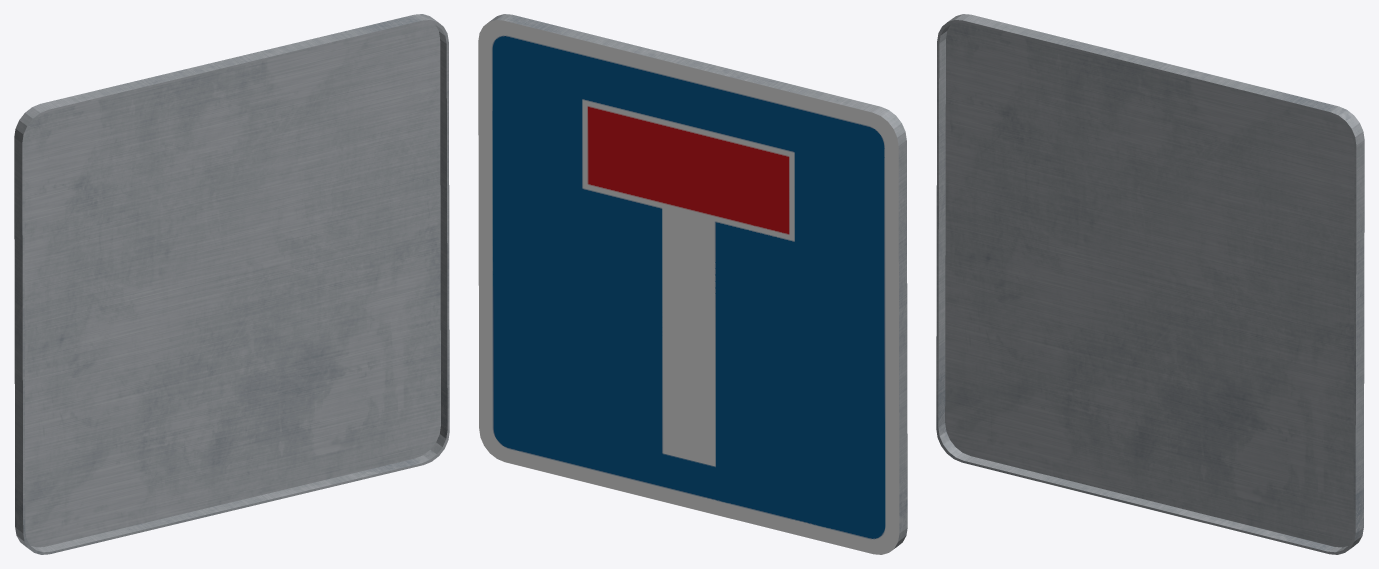
File: No_through_road.fbx
The picture shows the model from 3 angles, left to right: view 1: azimuth 30°, elevation 25°; view 2: azimuth 150°, elevation 25°; view 3: azimuth 330°, elevation 25°; orthographic projection.
Parts seen in each view (by area): view 1: No through road; view 2: No through road; view 3: No through road.
Boxes of the visible parts, x1=… form: No through road: x1=14, y1=14, x2=449, y2=554; No through road: x1=478, y1=14, x2=907, y2=554; No through road: x1=936, y1=14, x2=1364, y2=554.
Size of the model in its own units: 0.0281 by 0.6002 by 0.6001.
